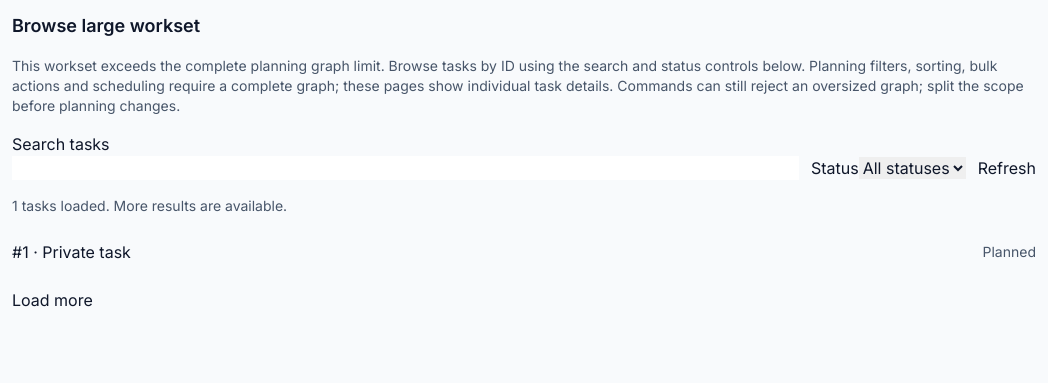
Test: restarts filtered reads and hides results on failed reads
Expected: the button "#1 · Private task" is shown, left=12, top=240, right=131, bottom=264
Select "Closed" in the dropdown at (912, 168), box left=859, top=157, right=966, bottom=179
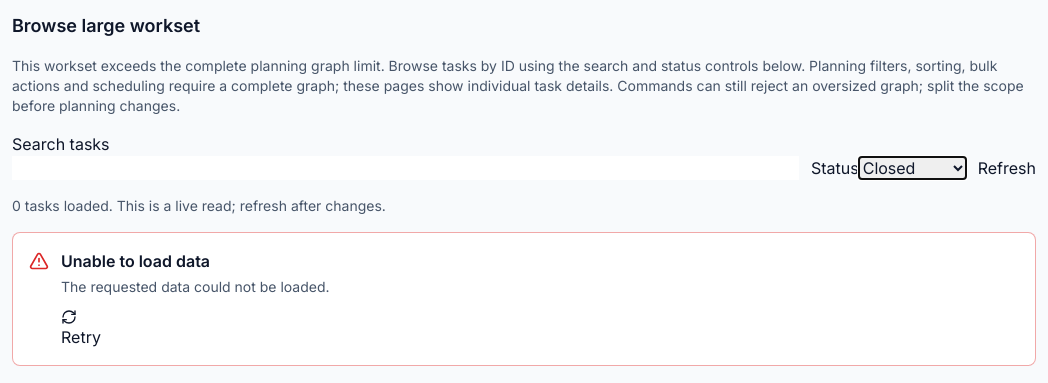
Expected: the button "#1 · Private task" is gone
